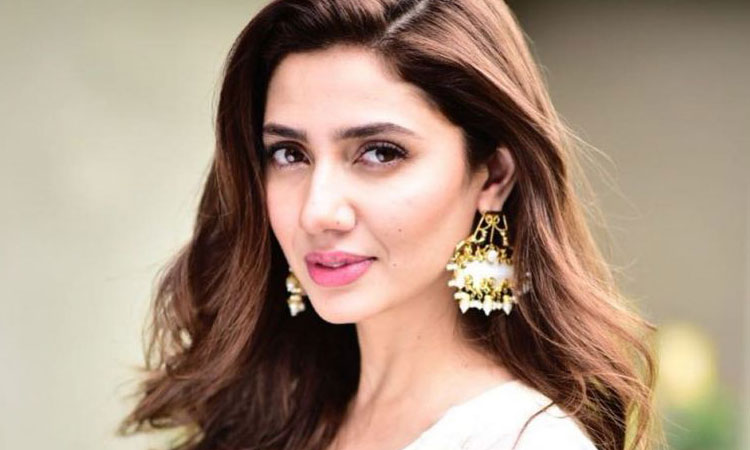NoMask: (263, 111, 423, 320)
